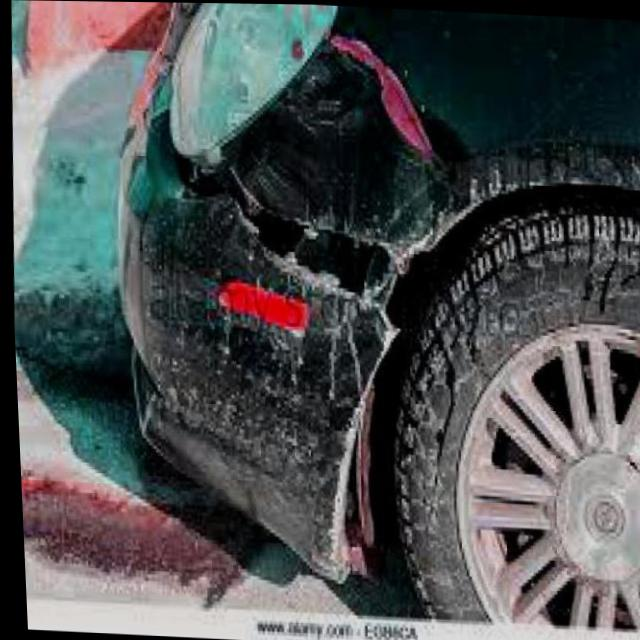Car-Damage: (102, 18, 640, 607)
